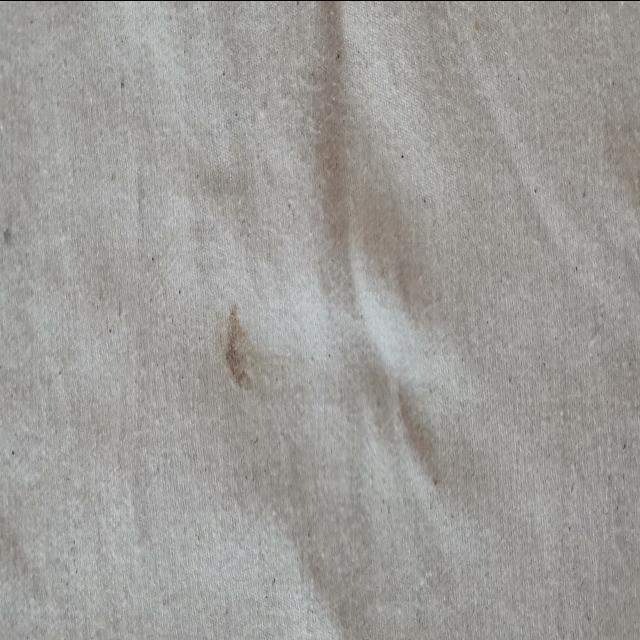taaaches: (214, 268, 284, 401), (0, 146, 75, 258), (0, 468, 55, 607)
